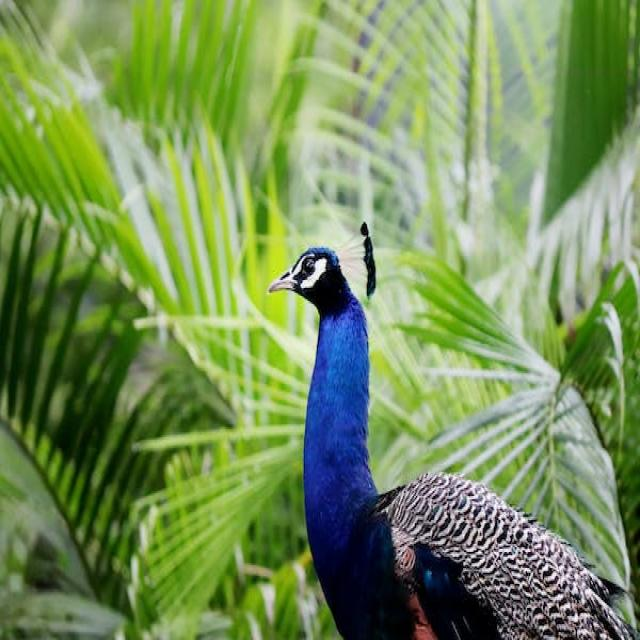peacock: (266, 222, 636, 640)
